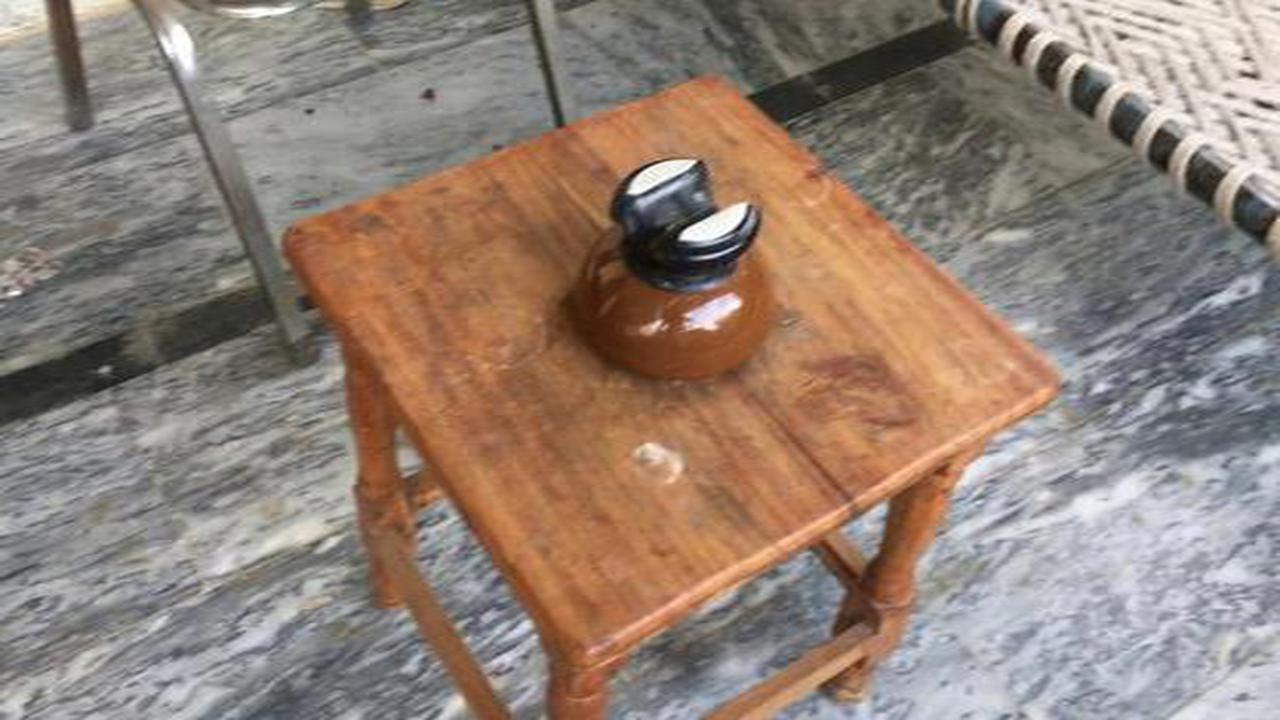insulator_pin: (545, 141, 813, 400)
